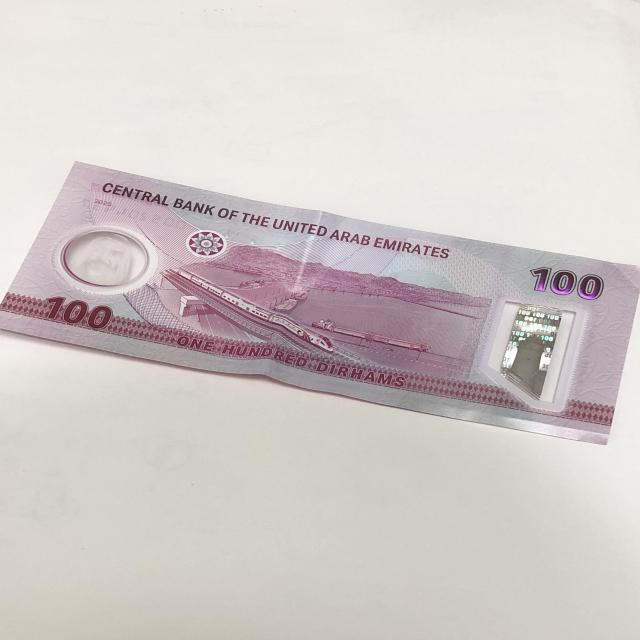100_AED: (0, 162, 640, 450)
